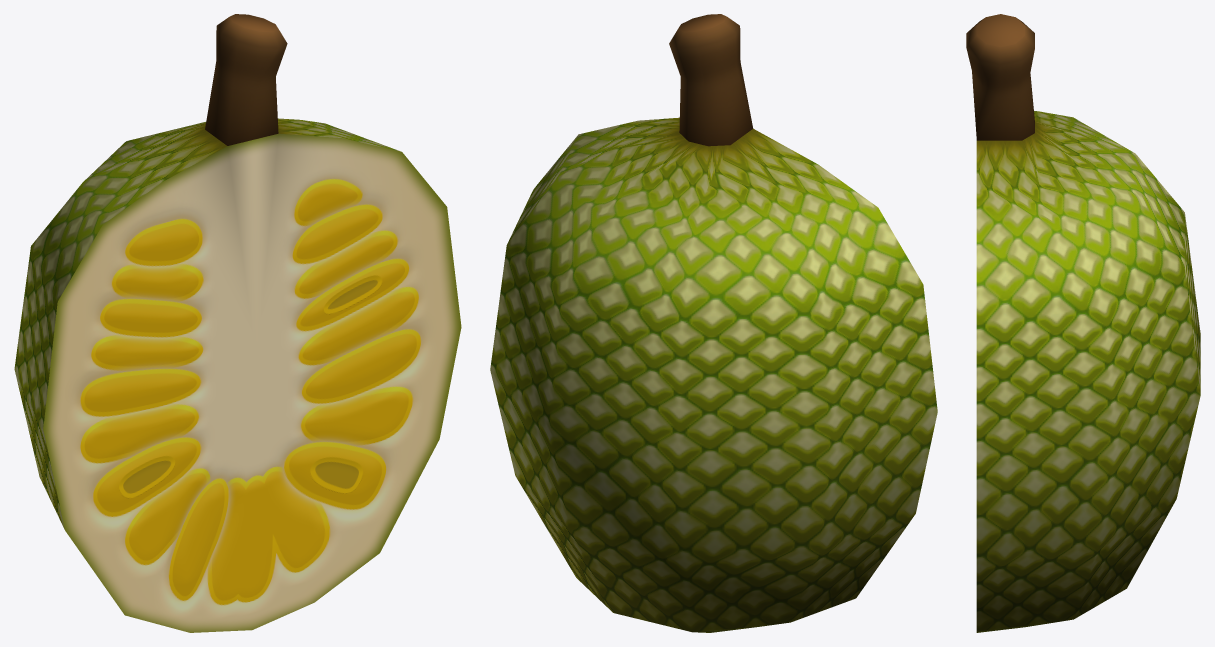
The model's file is Jackfruit_Half.fbx.
3 renders of one model, left to right at view 1: azimuth 30°, elevation 25°; view 2: azimuth 150°, elevation 25°; view 3: azimuth 270°, elevation 25°, orthographic.
Visible parts, largest first — view 1: Jackfruit_Half; view 2: Jackfruit_Half; view 3: Jackfruit_Half.
Boxes of the visible parts, x1,y1,x2,y2 form: Jackfruit_Half: (14,14,461,632); Jackfruit_Half: (490,14,937,632); Jackfruit_Half: (966,14,1200,632).
Size of the model in its own units: 57.95 by 79.58 by 28.27.
1 material, 1 textured.
